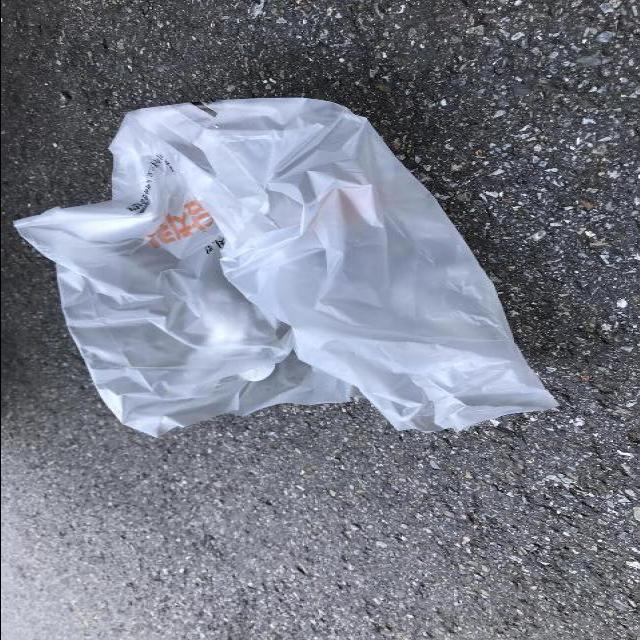plastic bag: (8, 91, 562, 442)
